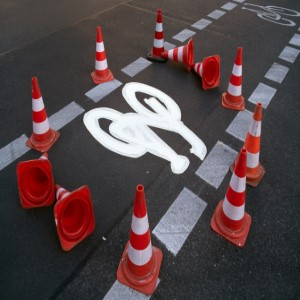traffic cone: (209, 148, 252, 248), (118, 184, 163, 273), (229, 102, 266, 188), (53, 184, 96, 252), (25, 77, 60, 154), (15, 151, 55, 208), (222, 46, 245, 110), (90, 25, 114, 84), (146, 7, 169, 64), (160, 37, 194, 73), (189, 54, 220, 90)
